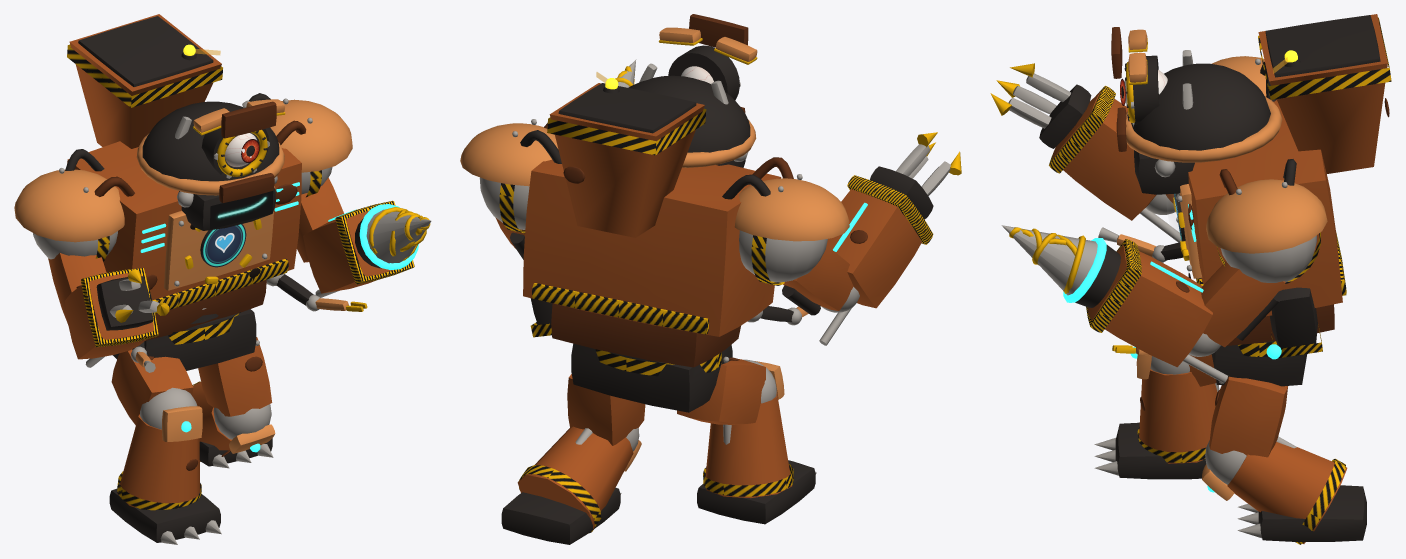
Rendered from prime.glb.
3 views of the same model, side by side, from view 1: azimuth 30°, elevation 25°; view 2: azimuth 150°, elevation 25°; view 3: azimuth 270°, elevation 25° (orthographic). The views are drawn at different scales.
Parts seen in each view (by area): view 1: object 32, object 120, object 104, object 106, object 10, object 63, MAKER PRIME, object 40, object 140, object 17, object 147, object 2 (+30 smaller); view 2: object 32, object 104, MAKER PRIME, object 33, object 127, object 120, object 25, object 10, object 140, object 106, object 63, object 28 (+18 smaller); view 3: object 32, object 104, object 63, object 147, object 140, object 25, object 10, object 106, object 127, object 17, object 143, object 28 (+26 smaller).
Boxes of the visible parts, x1=… form: object 32: x1=67, y1=141, x2=301, y2=300; object 120: x1=14, y1=169, x2=124, y2=242; object 104: x1=69, y1=14, x2=221, y2=148; object 106: x1=78, y1=16, x2=213, y2=86; object 10: x1=117, y1=414, x2=200, y2=507; object 63: x1=142, y1=101, x2=279, y2=181; MAKER PRIME: x1=113, y1=308, x2=256, y2=370; object 40: x1=164, y1=186, x2=275, y2=290; object 140: x1=270, y1=99, x2=352, y2=172; object 17: x1=198, y1=337, x2=272, y2=416; object 147: x1=303, y1=211, x2=409, y2=293; object 2: x1=111, y1=349, x2=193, y2=425; object 32: x1=523, y1=159, x2=781, y2=336; object 104: x1=549, y1=83, x2=704, y2=237; MAKER PRIME: x1=571, y1=343, x2=732, y2=412; object 33: x1=551, y1=303, x2=741, y2=367; object 127: x1=826, y1=189, x2=921, y2=308; object 120: x1=734, y1=178, x2=849, y2=241; object 25: x1=517, y1=426, x2=633, y2=528; object 10: x1=705, y1=391, x2=792, y2=498; object 140: x1=460, y1=123, x2=558, y2=186; object 106: x1=558, y1=83, x2=696, y2=133; object 63: x1=628, y1=75, x2=750, y2=152; object 28: x1=501, y1=487, x2=620, y2=544; object 32: x1=1188, y1=96, x2=1342, y2=316; object 104: x1=1258, y1=14, x2=1387, y2=173; object 63: x1=1131, y1=63, x2=1270, y2=150; object 147: x1=1087, y1=244, x2=1212, y2=367; object 140: x1=1206, y1=179, x2=1327, y2=253; object 25: x1=1227, y1=442, x2=1347, y2=543; object 10: x1=1139, y1=369, x2=1217, y2=463; object 106: x1=1265, y1=15, x2=1380, y2=77; object 127: x1=1052, y1=91, x2=1156, y2=220; object 17: x1=1209, y1=376, x2=1287, y2=457; object 143: x1=1201, y1=261, x2=1285, y2=347; object 28: x1=1258, y1=485, x2=1366, y2=541.
Size of what is drawn, in the model's own units: 2.26 by 2.7 by 2.08.
22 materials, 7 textured.
